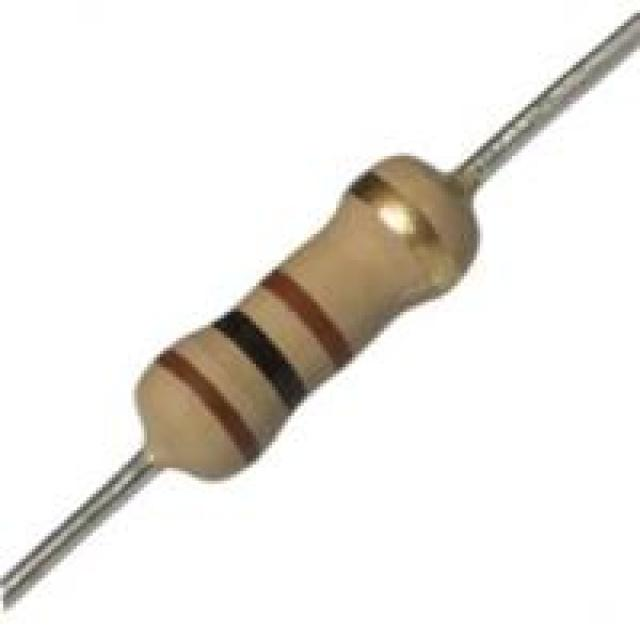Resistor: (140, 167, 457, 477)
